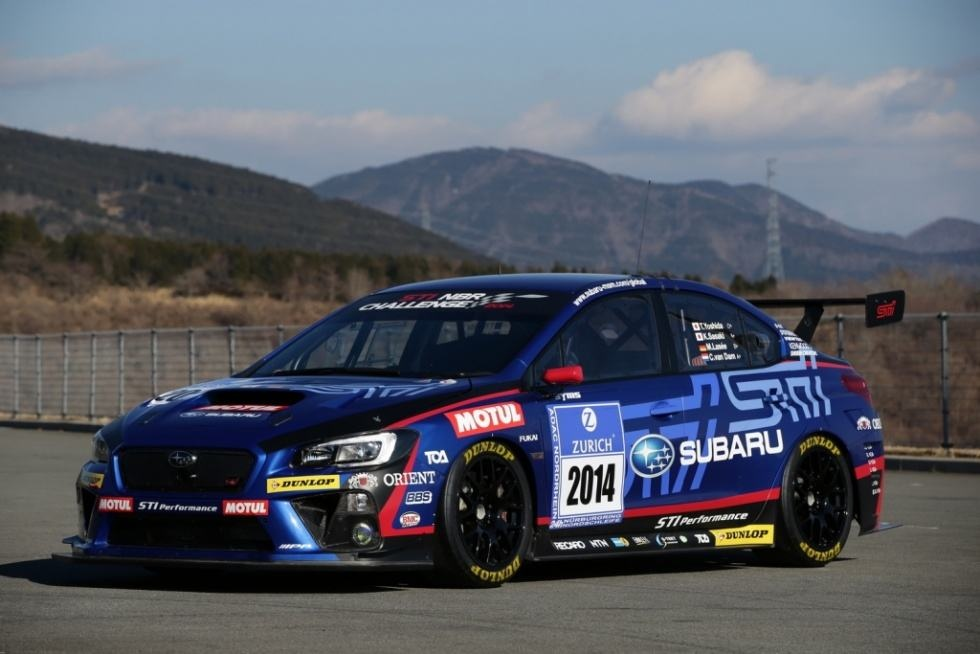racing car: (74, 257, 914, 592)
